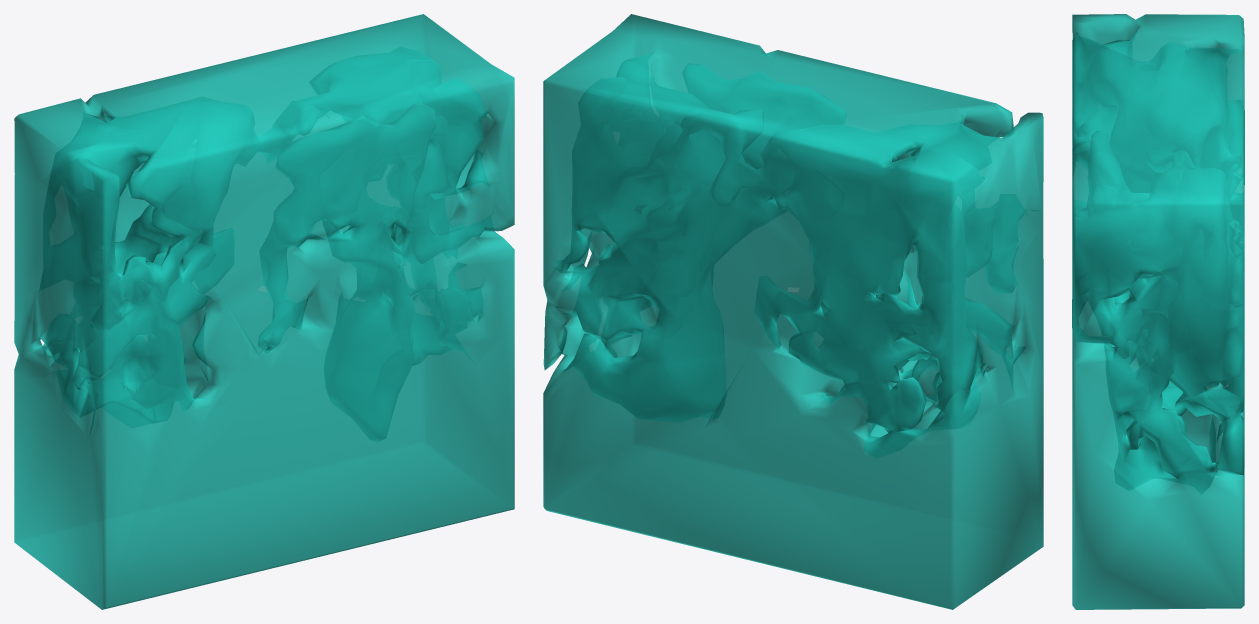
3 views of the same model, side by side, from view 1: azimuth 30°, elevation 25°; view 2: azimuth 150°, elevation 25°; view 3: azimuth 270°, elevation 25° (orthographic). The views are drawn at different scales.
Visible parts, largest first — view 1: Liquid_Domain; view 2: Liquid_Domain; view 3: Liquid_Domain.
Part boxes in pixels (left/top/right/bottom): Liquid_Domain: left=14, top=14, right=514, bottom=609; Liquid_Domain: left=543, top=14, right=1043, bottom=609; Liquid_Domain: left=1072, top=14, right=1244, bottom=609.
Size of the model in its own units: 1948 by 1948 by 749.
